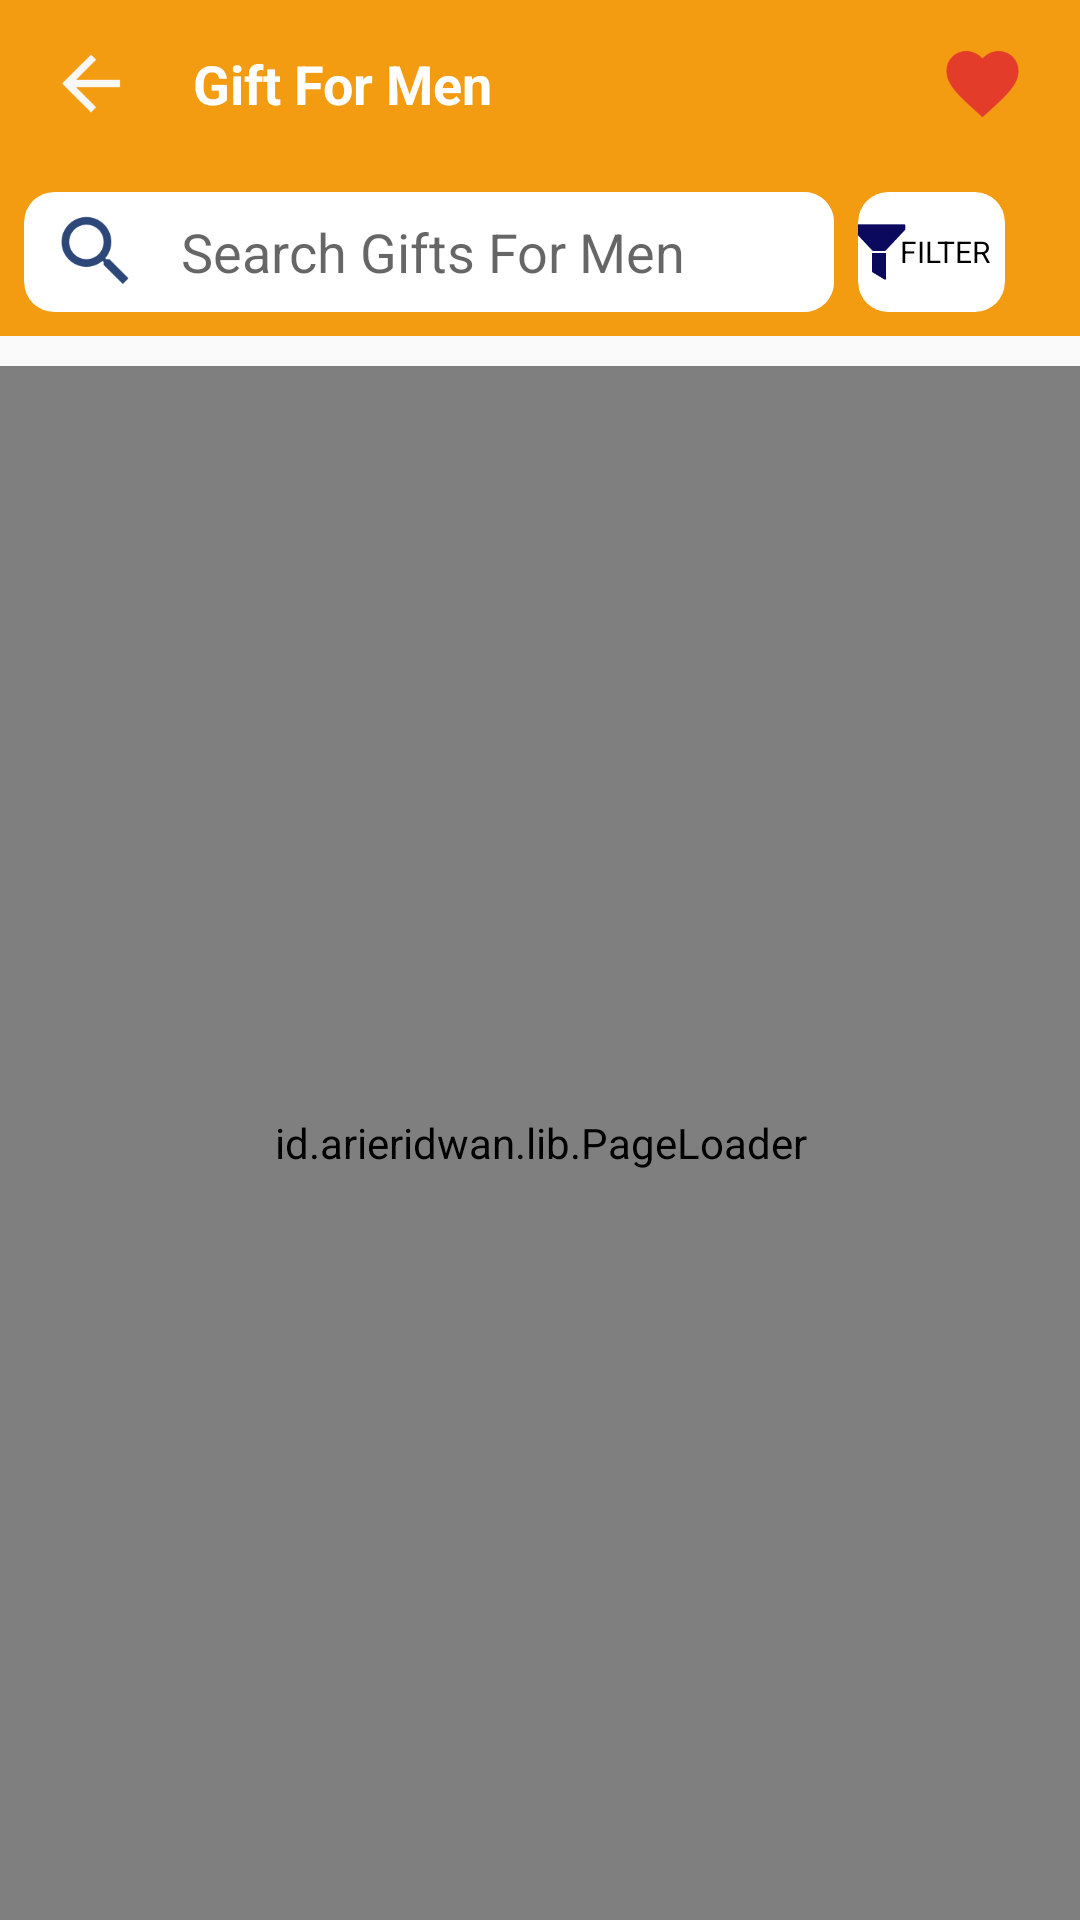

Icons on this 1080×1920 Android screen, each with its box as (x1, y1, x2, y2):
wish: (946, 51, 1019, 117)
